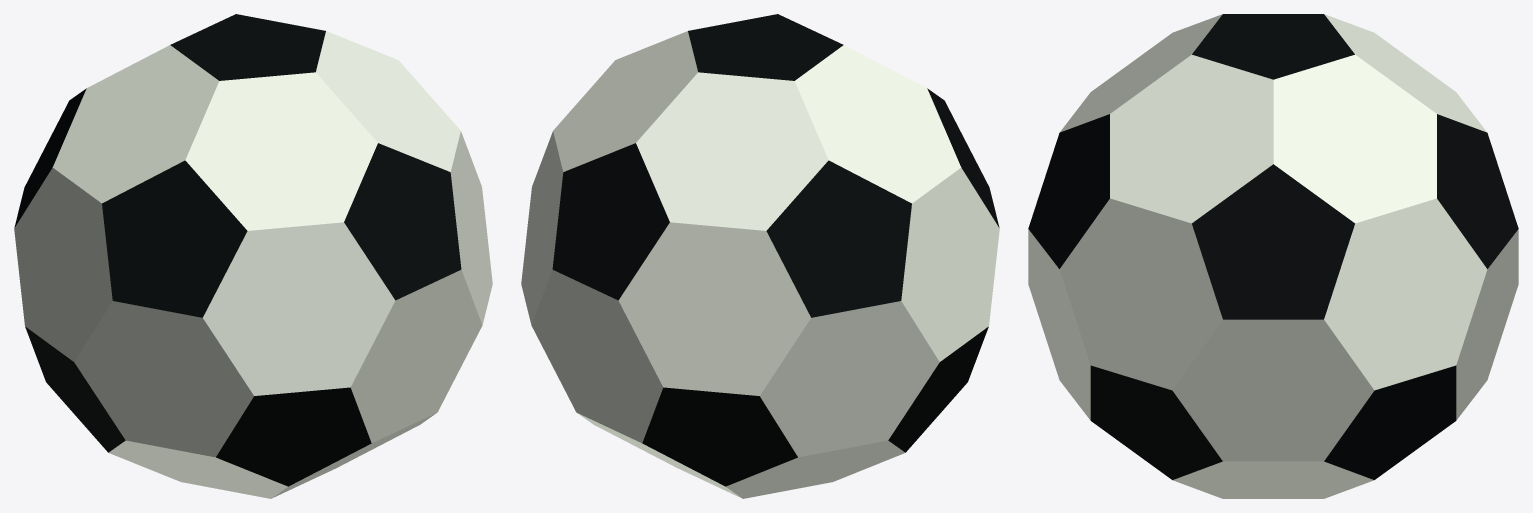
The model's file is football.fbx.
The picture shows the model from 3 angles, left to right: view 1: azimuth 30°, elevation 25°; view 2: azimuth 150°, elevation 25°; view 3: azimuth 270°, elevation 25°; orthographic projection. The views are drawn at different scales.
Visible parts, largest first — view 1: BF_Football; view 2: BF_Football; view 3: BF_Football.
Boxes of the visible parts, x1,y1,x2,y2 form: BF_Football: (14, 14, 492, 498); BF_Football: (521, 14, 999, 498); BF_Football: (1028, 14, 1518, 498).
Size of the model in its own units: 98.36 by 95.8 by 99.9.
Materials: 2 (2 with a texture image).
